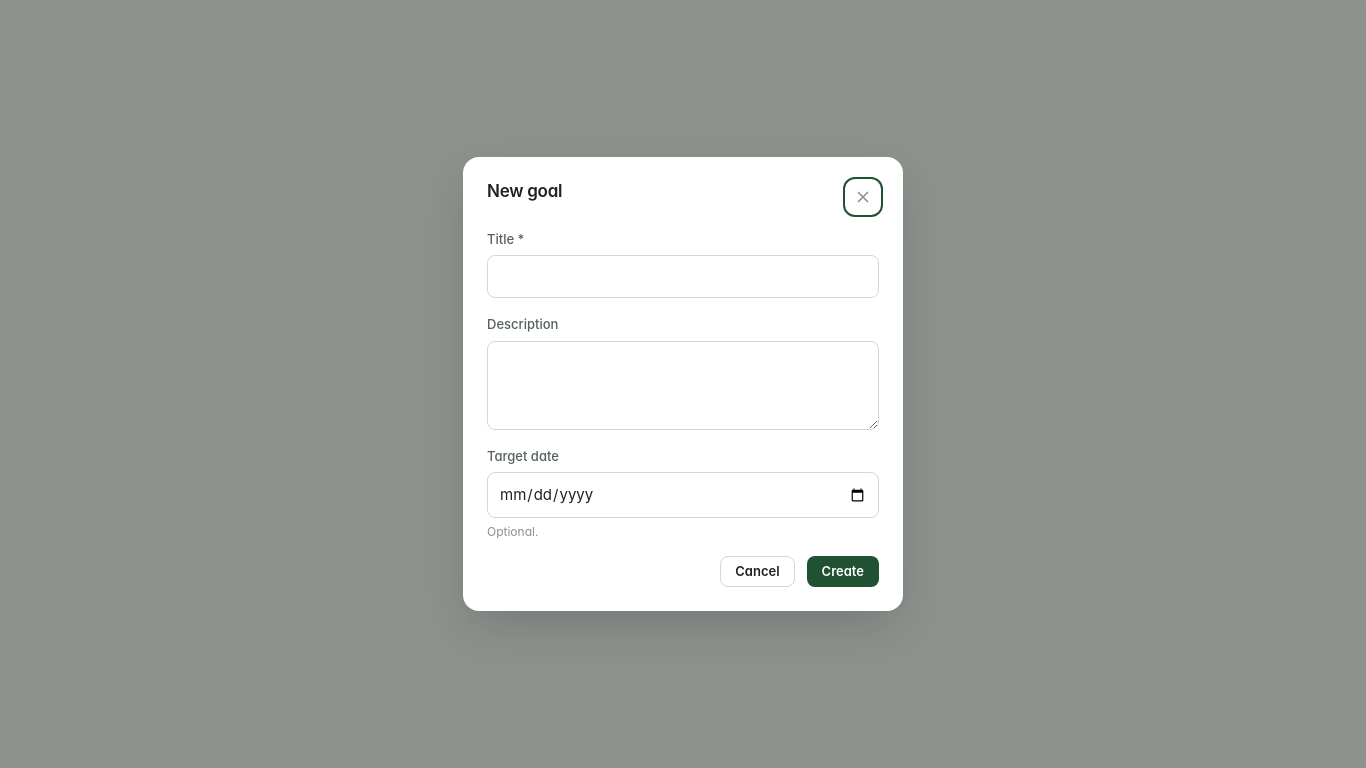
GoalDialog › surfaces a field validation error
Type "x" into the field labelled "Title *" at (683,277), box [487,255,879,298]
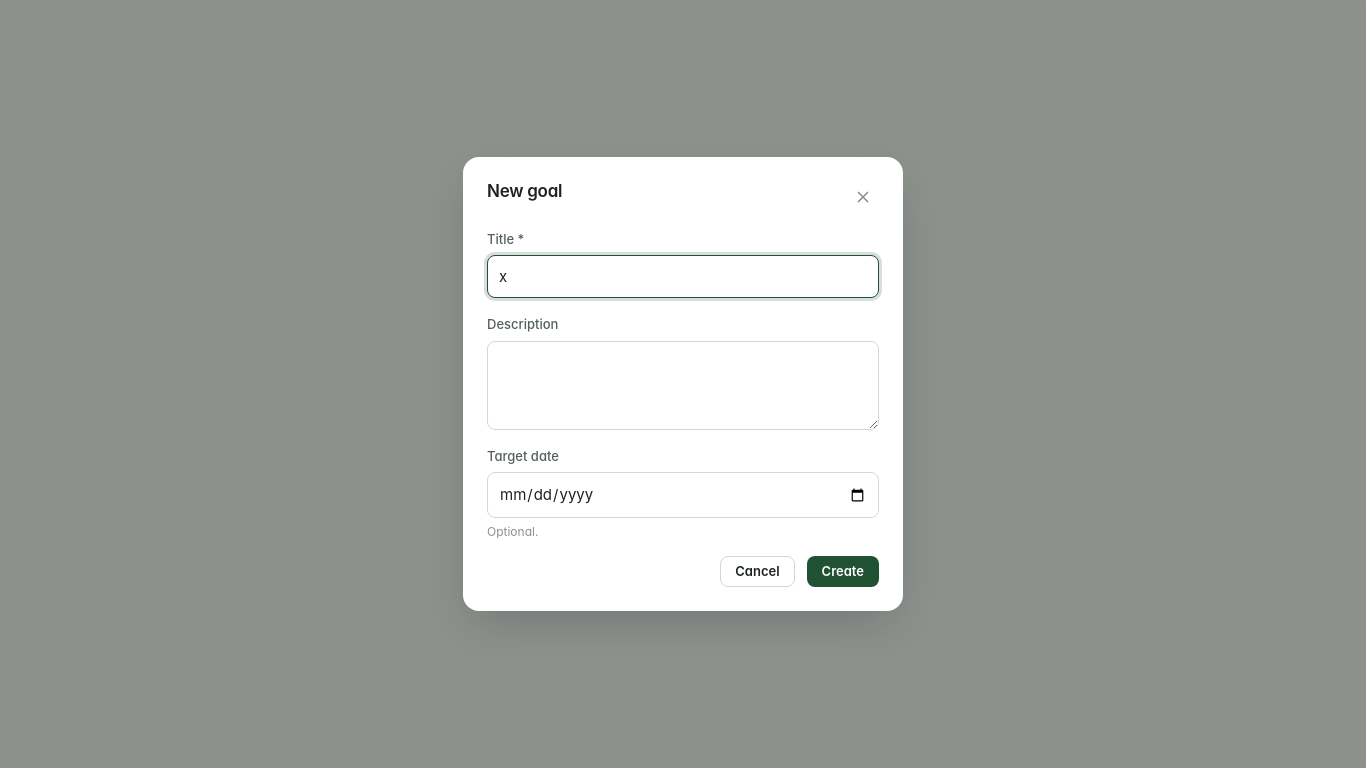
Click the button "Create" at (843,571), box [807,556,879,587]
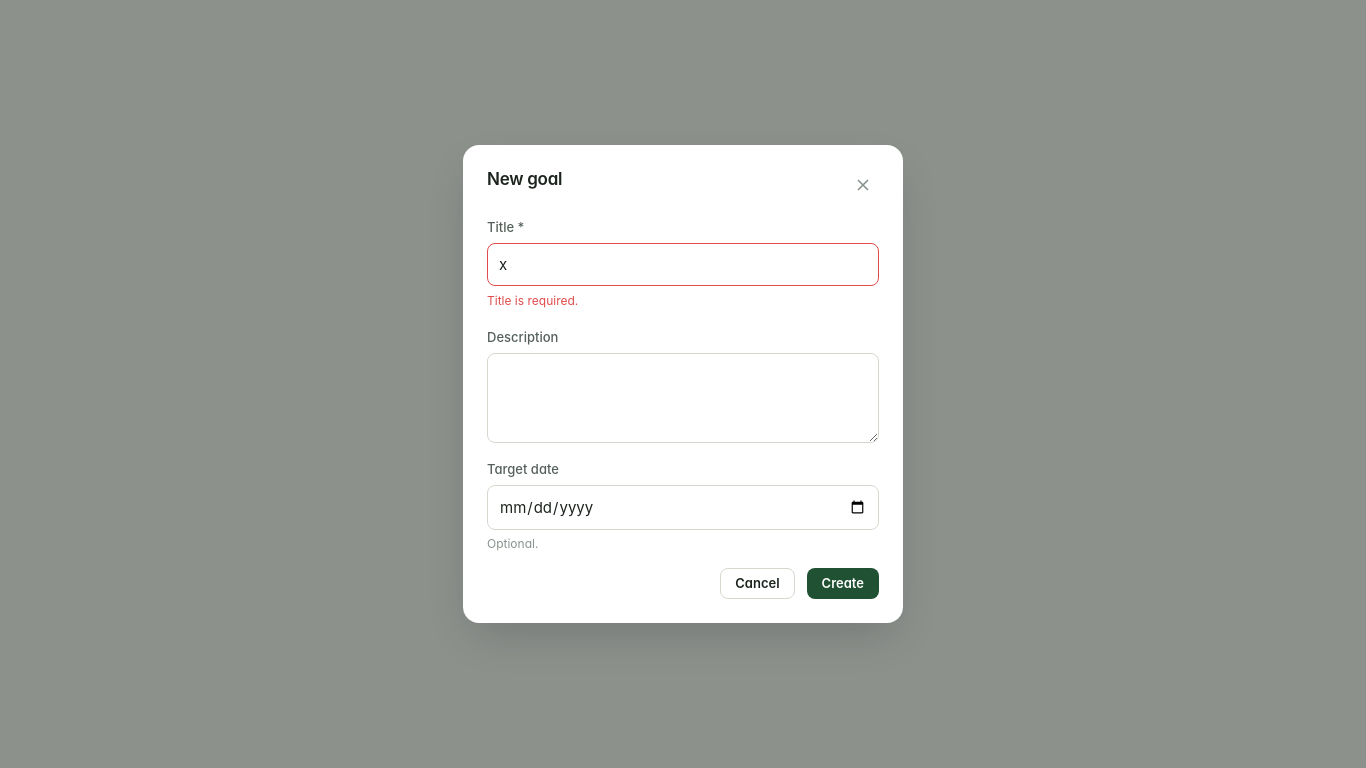
Result: the text "Title is required." is shown at [487,293,578,308]
